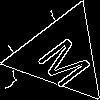M: (36, 29, 100, 91)
